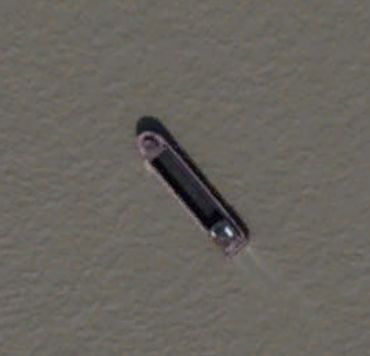boat: (133, 115, 251, 260)
